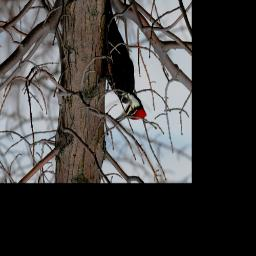Woodpecker: (99, 0, 147, 125)
